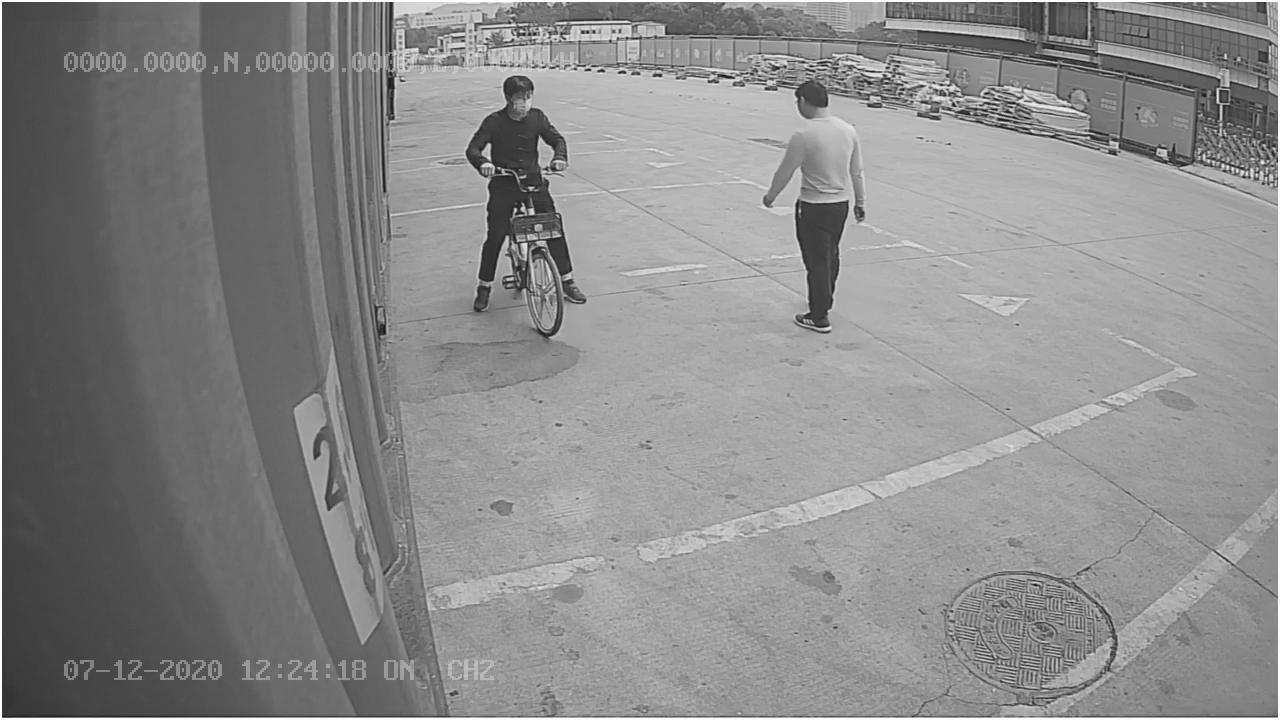person: (759, 76, 870, 338)
